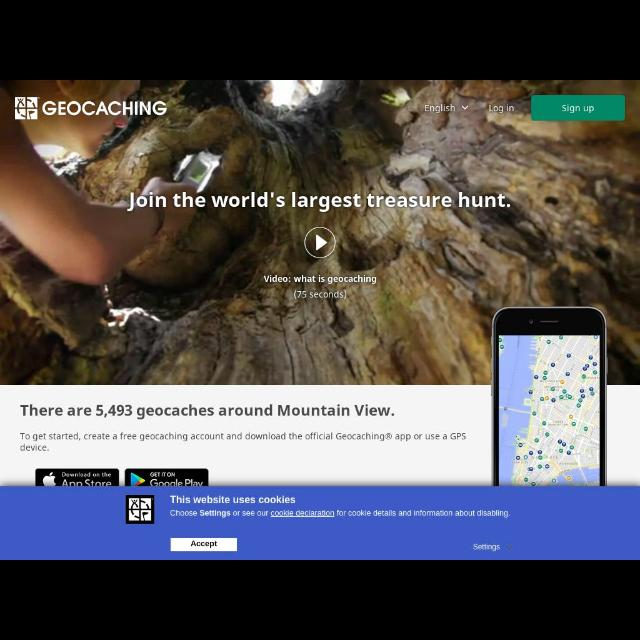backgroundimage: (1, 81, 639, 385)
icon: (506, 544, 512, 550), (461, 105, 469, 109)
image: (126, 495, 154, 523), (14, 96, 38, 120)
map: (498, 336, 600, 486)
spinner: (425, 105, 469, 114), (472, 544, 512, 552)
text: (19, 432, 467, 452), (127, 192, 511, 212), (21, 404, 395, 420), (170, 509, 510, 518), (42, 100, 168, 116), (170, 494, 296, 504), (264, 276, 376, 284), (294, 289, 346, 299), (424, 105, 456, 114), (562, 105, 594, 114), (490, 105, 514, 114), (474, 544, 501, 552), (191, 540, 217, 548)
textbutton: (531, 95, 625, 121), (170, 538, 238, 552)
